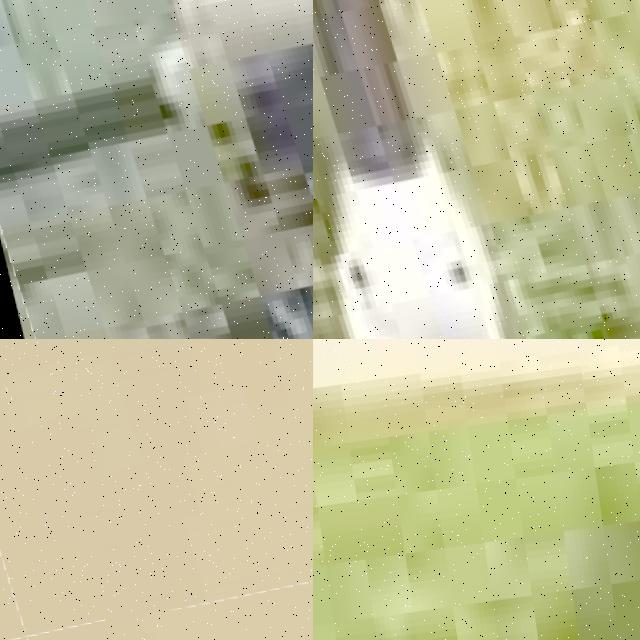0: (313, 0, 640, 339), (0, 0, 313, 339)
drone: (0, 339, 313, 640)
